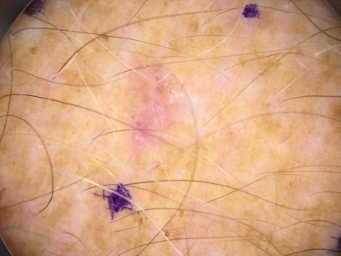nevus: (131, 65, 177, 165)
